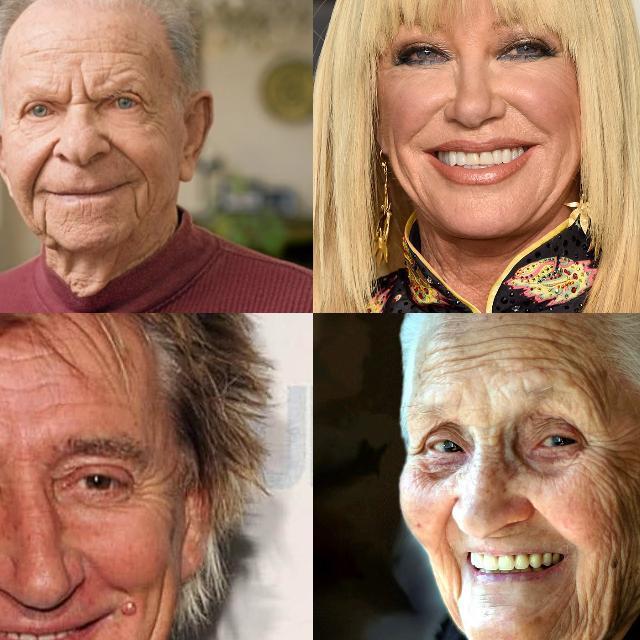chin: (552, 591, 580, 635), (59, 206, 73, 227)
crows_feet: (582, 437, 620, 477), (133, 467, 165, 511), (140, 95, 162, 128), (10, 105, 26, 126)
forehead: (494, 337, 600, 381), (424, 339, 478, 378), (0, 375, 58, 399), (584, 389, 614, 426), (40, 395, 86, 413), (0, 346, 46, 363), (18, 42, 54, 62), (113, 45, 147, 59), (109, 62, 143, 76), (0, 408, 10, 429)
frown_line: (480, 428, 502, 460), (80, 76, 96, 108), (64, 78, 76, 108)
gummy_smile: (499, 92, 547, 130), (528, 502, 570, 544), (406, 103, 446, 135), (438, 507, 462, 559), (107, 137, 139, 169), (31, 146, 53, 188), (138, 172, 156, 204), (26, 192, 38, 220)
masseter: (590, 565, 632, 637), (601, 488, 640, 555), (530, 179, 564, 225), (389, 146, 418, 196), (142, 583, 166, 640)
sad_smile: (36, 202, 54, 235), (126, 185, 142, 222)
